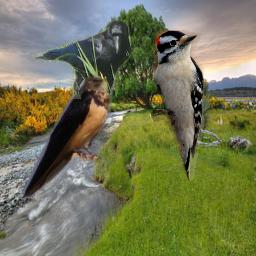Crow: (32, 20, 131, 99)
Swallow: (21, 65, 114, 202)
Woodpecker: (150, 30, 204, 181)
